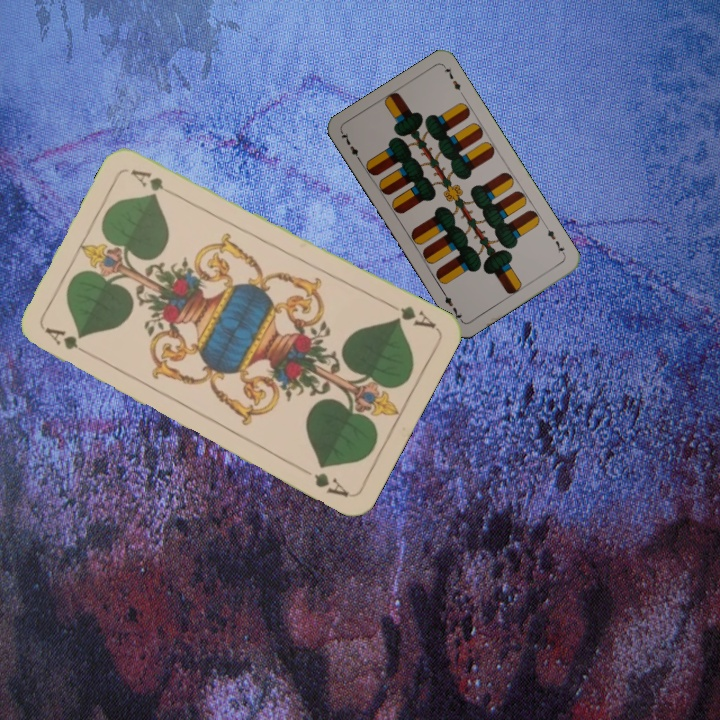E7: (337, 128, 364, 165), (541, 222, 568, 258)
GA: (41, 323, 96, 360), (384, 300, 438, 332)
